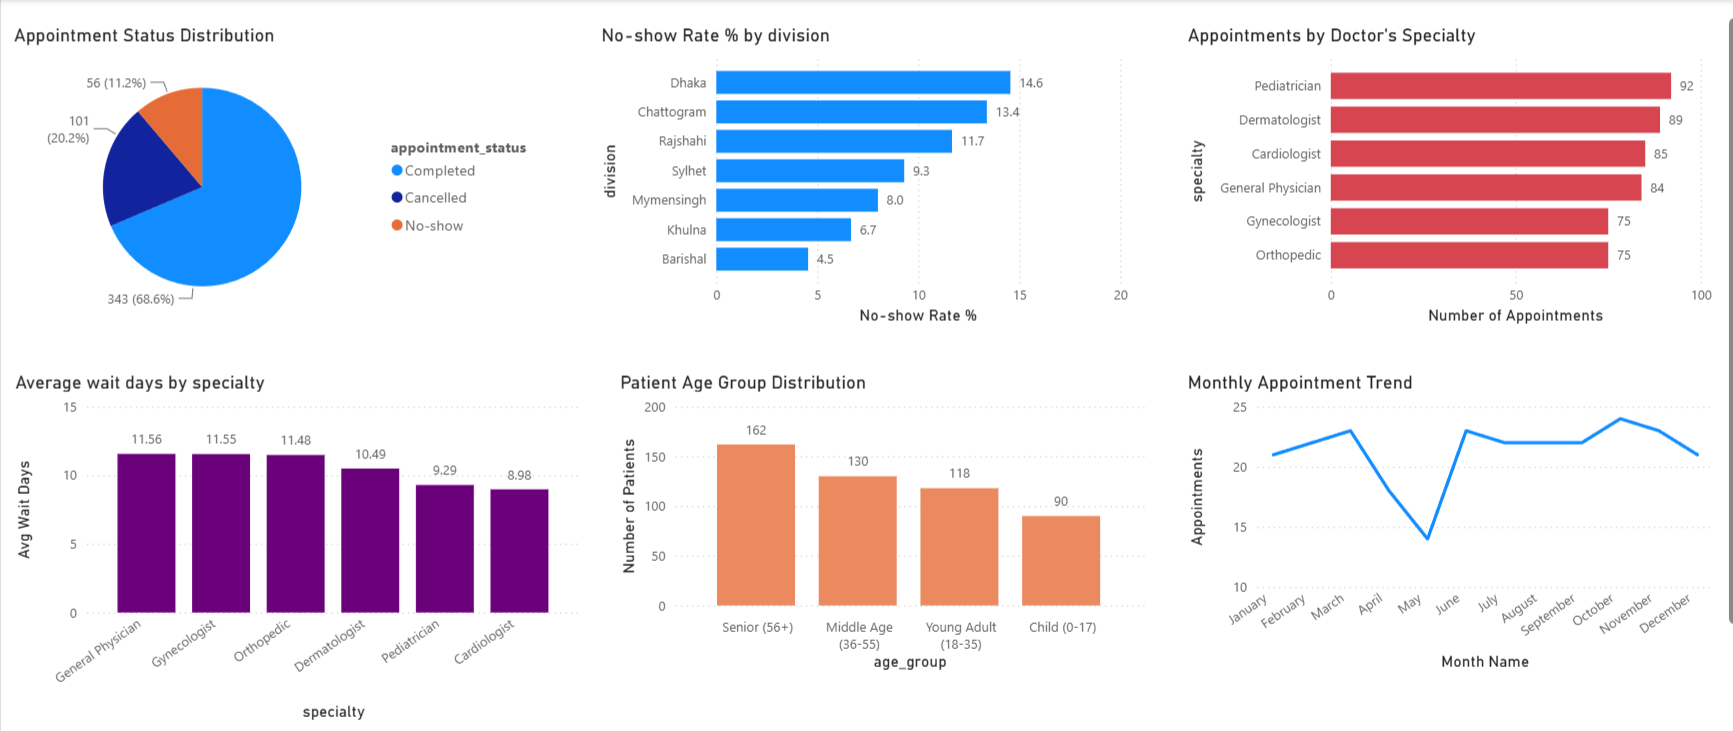

The page's visual inventory and layout, read from the dashboard file:
{"tool":"powerbi","page":{"name":"Page 1","canvas":[1900,1080],"ordinal":0},"visuals":[{"type":"pieChart","title":"Appointment Status Distribution","fields":{"Category":["appointments (2).appointment_status"],"Y":["CountNonNull(appointments (2).appointment_status)"]},"box":[47.4,32.9,494.7,280.3],"z":0},{"type":"tableEx","fields":{"Values":["appointments (2).division","appointments (2).No-show Rate %"]},"box":[26.3,360.5,494.7,280.3],"z":1},{"type":"clusteredBarChart","fields":{"Category":["appointments (2).division"],"Y":["appointments (2).No-show Rate %"]},"box":[627.6,13.2,493.4,280.3],"z":2},{"type":"clusteredBarChart","title":"Appointments by Doctor''s Specialty","fields":{"Category":["appointments (2).specialty"],"Y":["CountNonNull(appointments (2).specialty)"]},"box":[600,331.6,493.4,280.3],"z":3},{"type":"clusteredColumnChart","title":"Average wait days by specialty","fields":{"Category":["appointments (2).specialty"],"Y":["Avg(appointments (2).wait_days)"]},"box":[26.8,640.8,529.6,325.4],"z":4},{"type":"clusteredColumnChart","title":"Patient Age Group Distribution","fields":{"Category":["appointments (2).age_group"],"Y":["CountNonNull(appointments (2).age_group)"]},"box":[656.3,663.4,493,280.3],"z":5},{"type":"lineChart","title":"Monthly Appointment Trend","fields":{"Category":["appointments (2).Month Name"],"Y":["CountNonNull(appointments (2).Month Name)"]},"box":[1225.4,80.3,493,280.3],"z":6}]}

Visuals, with their boxes on the page's 1900x1080 design canvas (x1, y1, x2, y2). These are canvas units, not pixel positions in the 1733x731 screenshot, which may show the page scaled, cropped or inside an application window:
"Appointment Status Distribution" pieChart: {"x1": 47, "y1": 33, "x2": 542, "y2": 313}
tableEx - appointments (2).division x appointments (2).No-show Rate %: {"x1": 26, "y1": 360, "x2": 521, "y2": 641}
clusteredBarChart - appointments (2).division x appointments (2).No-show Rate %: {"x1": 628, "y1": 13, "x2": 1121, "y2": 294}
"Appointments by Doctor''s Specialty" clusteredBarChart: {"x1": 600, "y1": 332, "x2": 1093, "y2": 612}
"Average wait days by specialty" clusteredColumnChart: {"x1": 27, "y1": 641, "x2": 556, "y2": 966}
"Patient Age Group Distribution" clusteredColumnChart: {"x1": 656, "y1": 663, "x2": 1149, "y2": 944}
"Monthly Appointment Trend" lineChart: {"x1": 1225, "y1": 80, "x2": 1718, "y2": 361}
